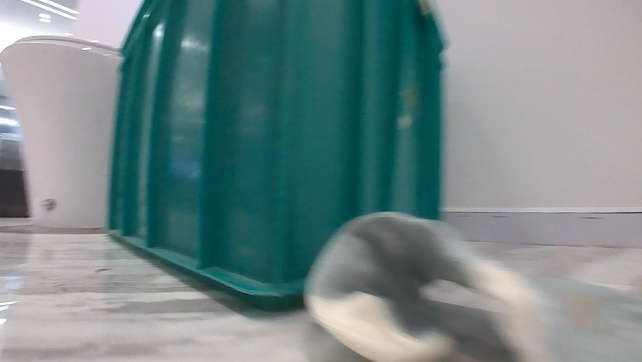socks: (298, 207, 641, 361)
toilet: (0, 32, 126, 233)
